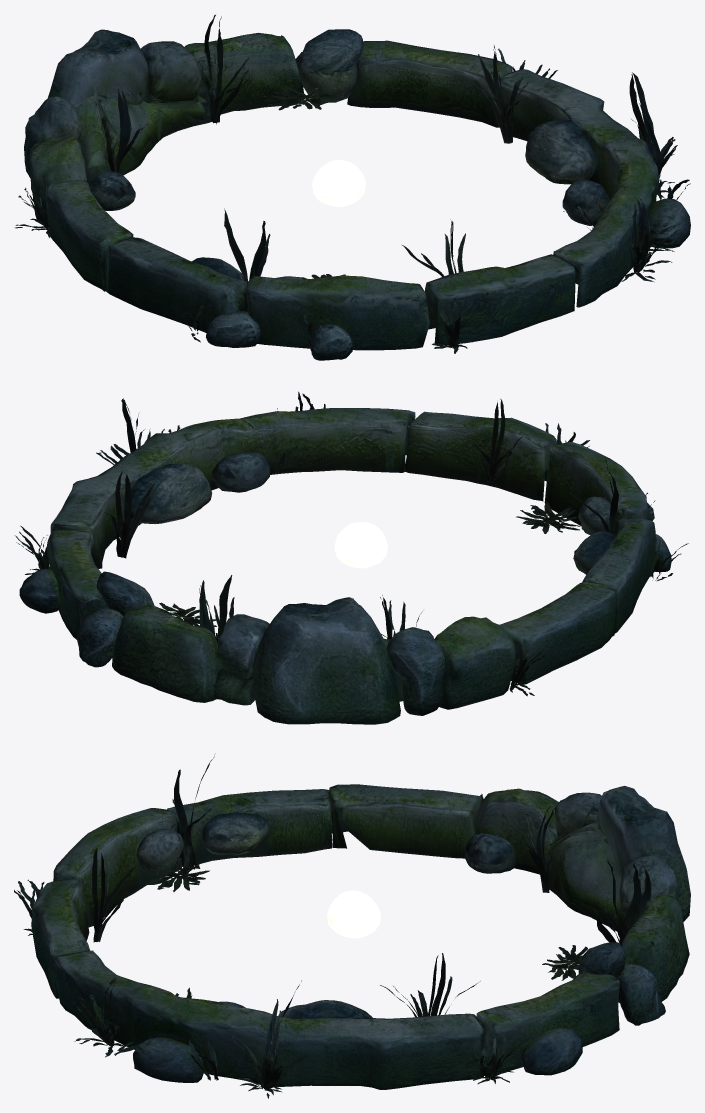
File: Meshy_AI_Moon_Ring_Pond_0721143508_texture.fbx
The picture shows the model from 3 angles, top to bottom: view 1: azimuth 30°, elevation 25°; view 2: azimuth 150°, elevation 25°; view 3: azimuth 270°, elevation 25°; orthographic projection. The views are drawn at different scales.
Visible parts, largest first — view 1: mesh_node; view 2: mesh_node; view 3: mesh_node.
Part boxes in pixels (x1,y1,x2,y2): mesh_node: (14, 14, 690, 360); mesh_node: (14, 391, 688, 724); mesh_node: (14, 753, 690, 1098).
Size of the model in its own units: 95.31 by 18.75 by 100.
1 material, 1 textured.
